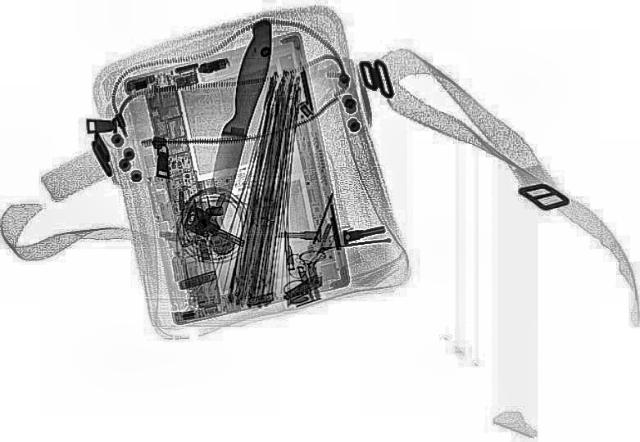Knife: (194, 18, 280, 230)
